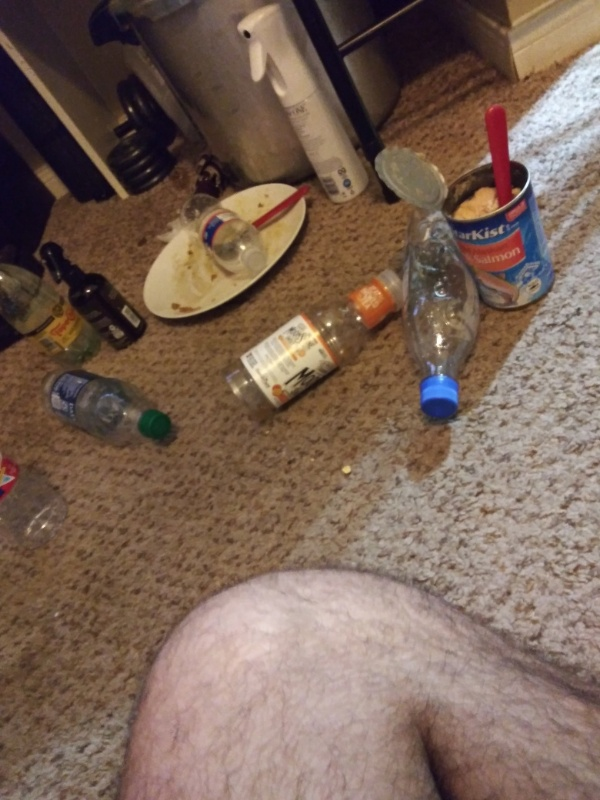bottle: (224, 265, 415, 424), (398, 194, 484, 427), (35, 363, 177, 450), (1, 254, 105, 370), (175, 187, 269, 276), (1, 449, 71, 550)
